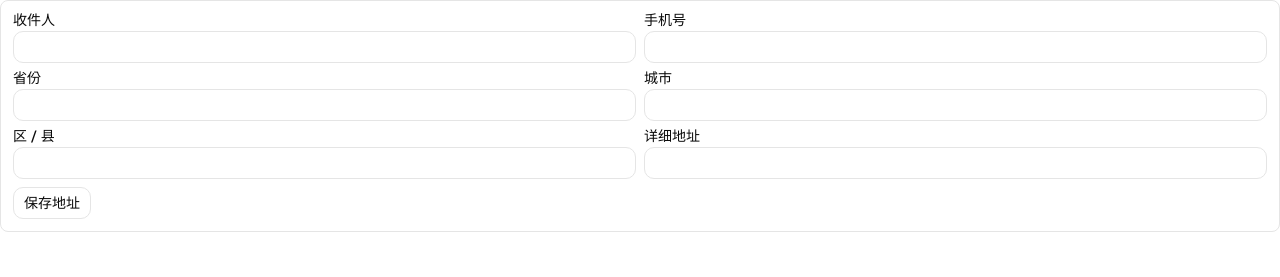
Test case: 地址表单 › 传了 validate 时，校验不通过就不发请求（地址簿页的前端校验）
In the field labelled "收件人": [324, 47] box left=13, top=31, right=636, bottom=63, type "张三"
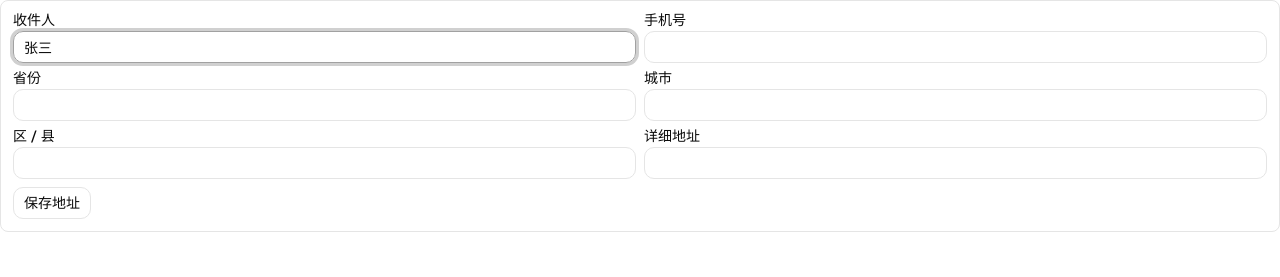
Click the button "保存地址": [52, 203] box left=13, top=187, right=91, bottom=219
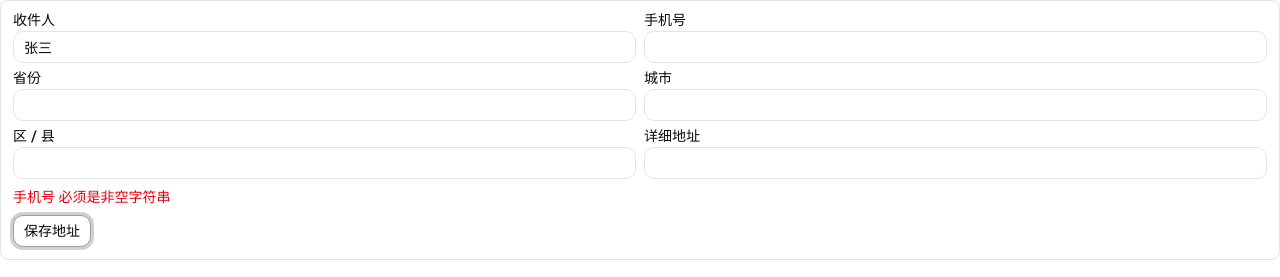
Expected: the text "手机号 必须是非空字符串" is shown, left=13, top=188, right=170, bottom=206
